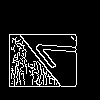Z: (25, 25, 89, 76)
